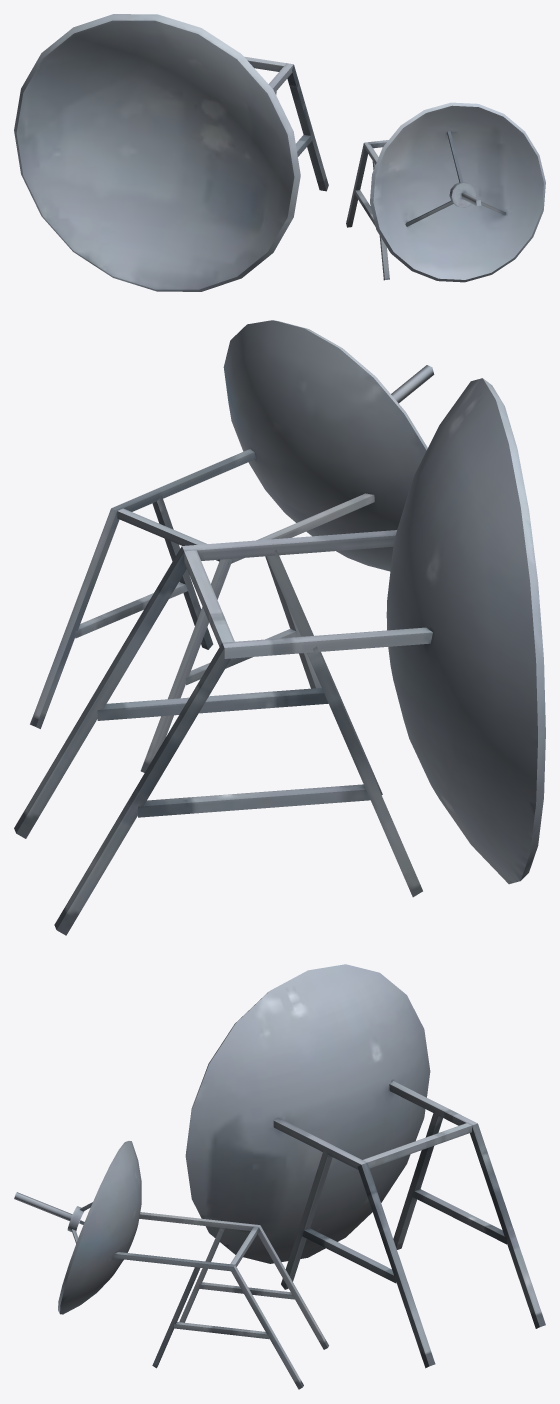
3 views of the same model, one above another, from view 1: azimuth 30°, elevation 25°; view 2: azimuth 150°, elevation 25°; view 3: azimuth 270°, elevation 25° (orthographic). The views are drawn at different scales.
Visible parts, largest first — view 1: body0_model0_lod0_mesh0; view 2: body0_model0_lod0_mesh0; view 3: body0_model0_lod0_mesh0.
Part boxes in pixels (<box>): body0_model0_lod0_mesh0: <box>14,14,545,291</box>; body0_model0_lod0_mesh0: <box>14,320,545,935</box>; body0_model0_lod0_mesh0: <box>14,964,545,1389</box>.
Bounding box in the file's own units: 237 × 171 × 286.
Materials: 1 (1 with a texture image).
